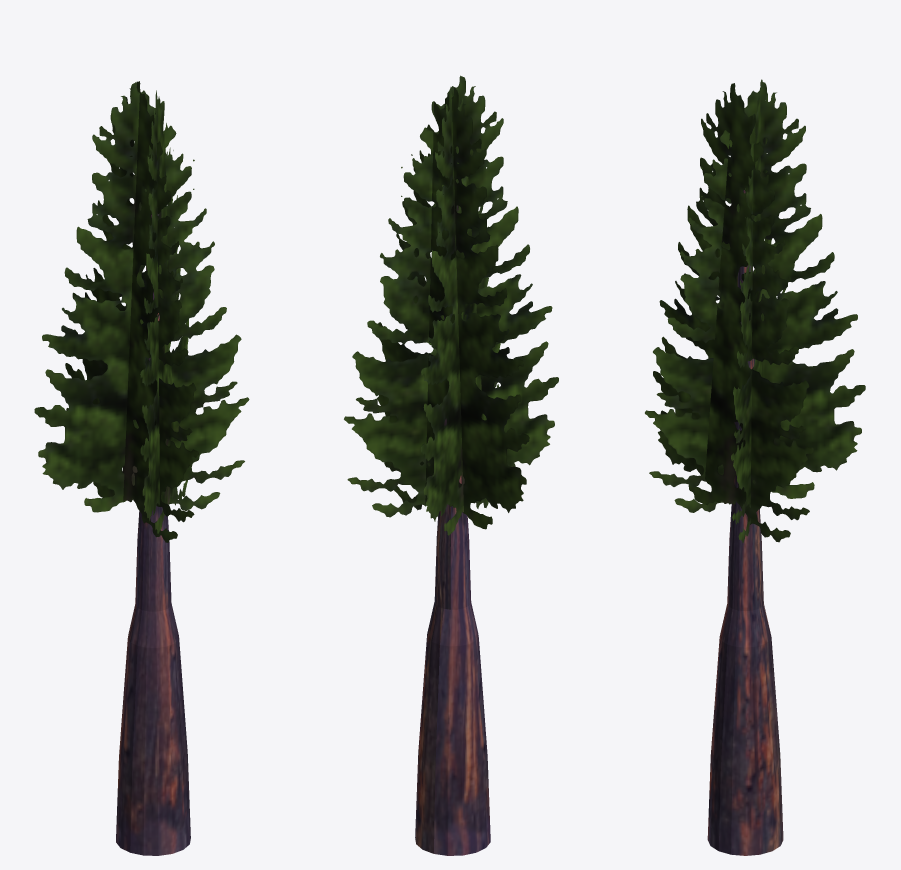
Rendered from Pine.obj.
The picture shows the model from 3 angles, left to right: view 1: azimuth 30°, elevation 25°; view 2: azimuth 150°, elevation 25°; view 3: azimuth 270°, elevation 25°; orthographic projection.
Visible parts, largest first — view 1: Plane.003, Cylinder; view 2: Plane.003, Cylinder; view 3: Plane.003, Cylinder.
Boxes of the visible parts, bbox=[...] form: Plane.003: bbox=[34, 81, 249, 542]; Cylinder: bbox=[116, 214, 190, 855]; Plane.003: bbox=[344, 75, 558, 535]; Cylinder: bbox=[415, 205, 490, 855]; Plane.003: bbox=[645, 79, 865, 542]; Cylinder: bbox=[707, 190, 783, 855].
Bounding box in the file's own units: 0.4395 × 1.39 × 0.4515.
Materials: 2 (2 with a texture image).
